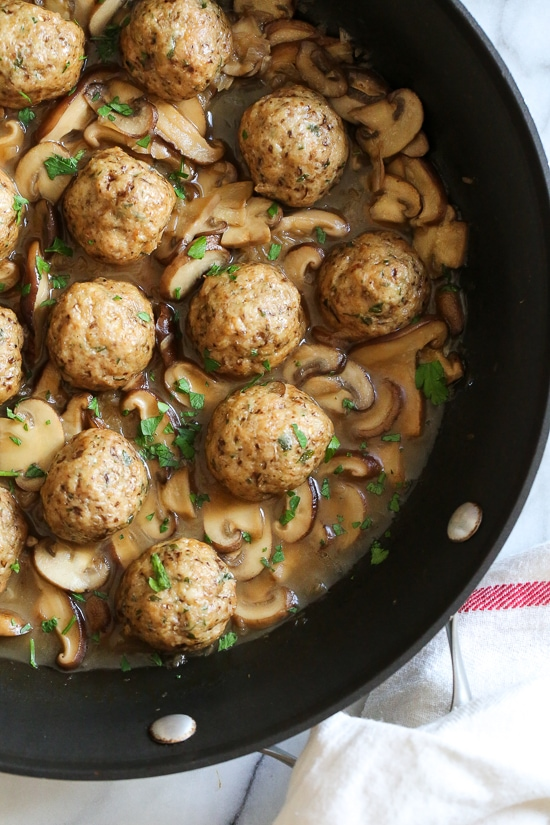meatballs: (190, 258, 299, 378), (207, 383, 318, 497), (241, 87, 339, 209), (41, 431, 143, 542), (121, 552, 243, 643), (320, 233, 426, 335), (114, 2, 228, 94), (51, 276, 151, 378), (72, 160, 176, 253), (1, 4, 89, 96)
